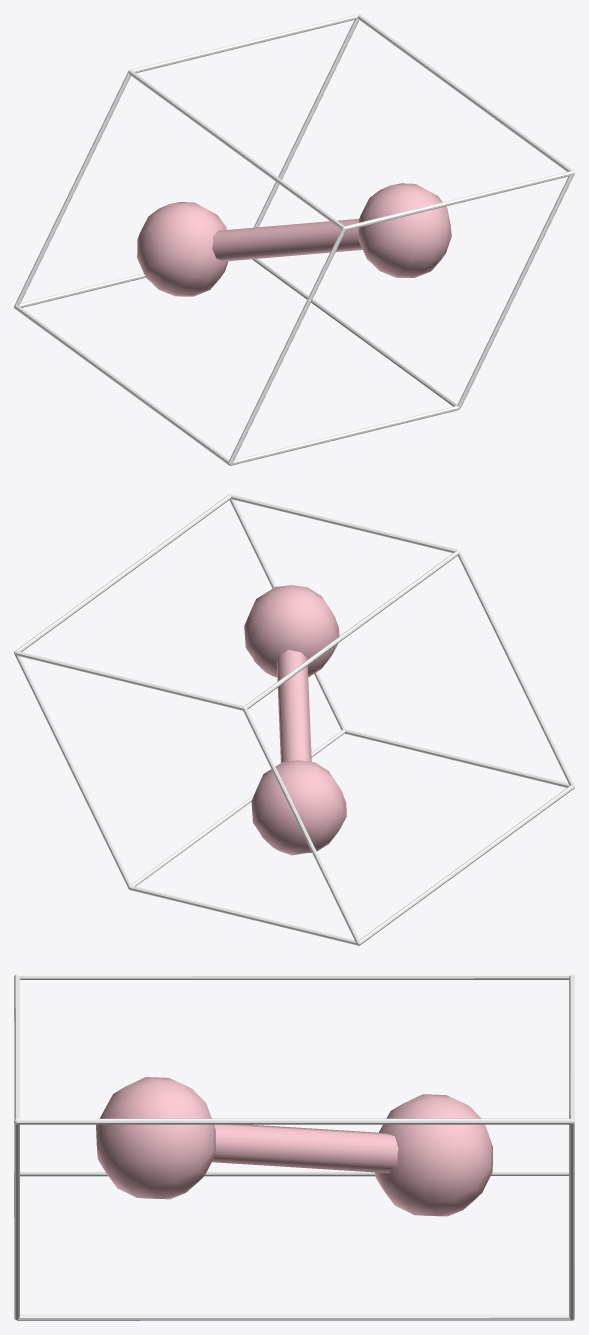
File: COBALTO.fbx
3 renders of one model, top to bottom at view 1: azimuth 30°, elevation 25°; view 2: azimuth 150°, elevation 25°; view 3: azimuth 270°, elevation 25°, orthographic. The views are drawn at different scales.
Visible parts, largest first — view 1: Co, limite.014; view 2: Co, limite.014; view 3: Co, limite.014.
Part boxes in pixels (<box>): Co: <box>137,183,451,296</box>; limite.014: <box>14,14,574,465</box>; Co: <box>244,585,346,855</box>; limite.014: <box>14,494,574,945</box>; Co: <box>96,1077,492,1216</box>; limite.014: <box>14,974,574,1320</box>.
Bounding box in the file's own units: 25.17 × 14.66 × 27.21.
